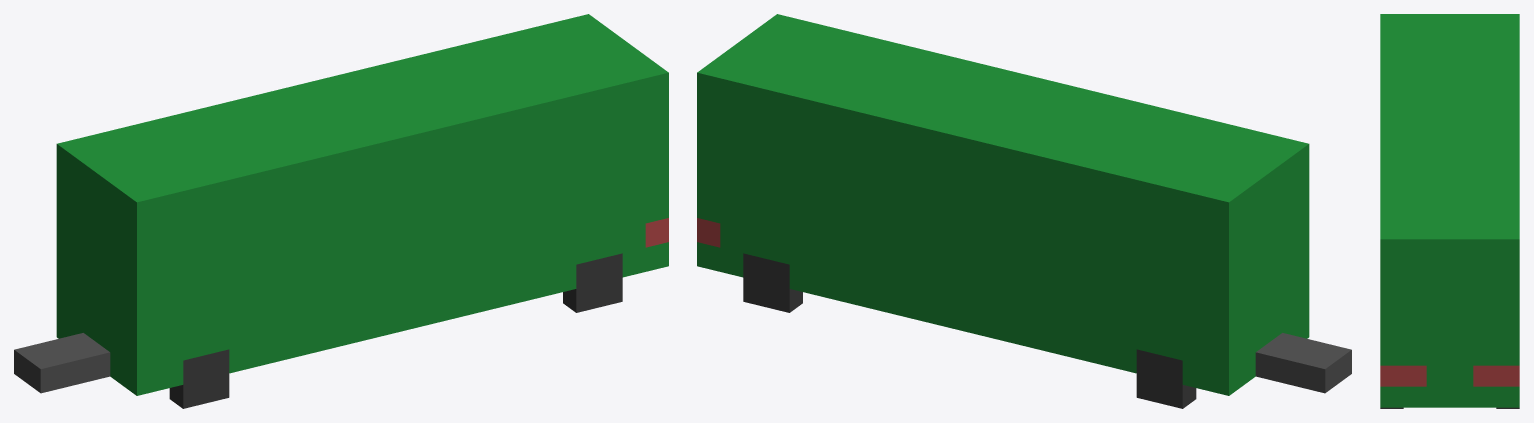
Rendered from truck-trailer-v1-green.gltf.
3 views of the same model, side by side, from view 1: azimuth 30°, elevation 25°; view 2: azimuth 150°, elevation 25°; view 3: azimuth 270°, elevation 25° (orthographic). The views are drawn at different scales.
Parts seen in each view (by area): view 1: model, wheels; view 2: model, wheels; view 3: model.
Part boxes in pixels (x1,y1,x2,y2): model: (14,14,668,395); wheels: (169,253,622,408); model: (697,14,1351,395); wheels: (743,253,1196,408); model: (1380,14,1519,407).
Bounding box in the file's own units: 2.6 × 0.9 × 0.6.
Materials: 2 (2 with a texture image).
